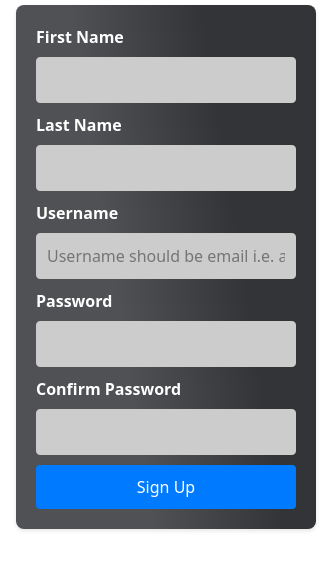
SignUpForm shows error message when username already exists
Note: Simulating user input for each of the form fields
Type "John" into the field labelled "First Name" at (166, 80), box 36,57 -> 296,103
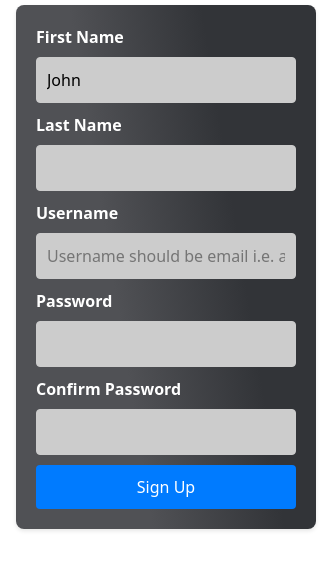
Type "Doe" into the field labelled "Last Name" at (166, 168), box 36,145 -> 296,191
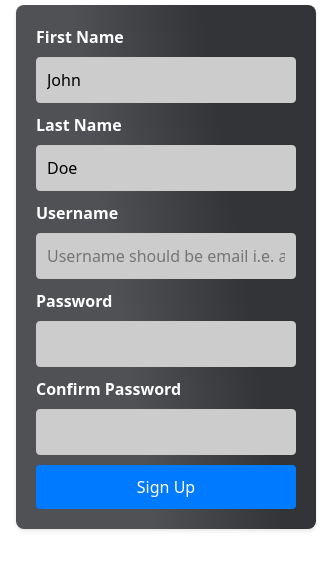
Type "john@example.com" into the field labelled "Username" at (166, 256), box 36,233 -> 296,279
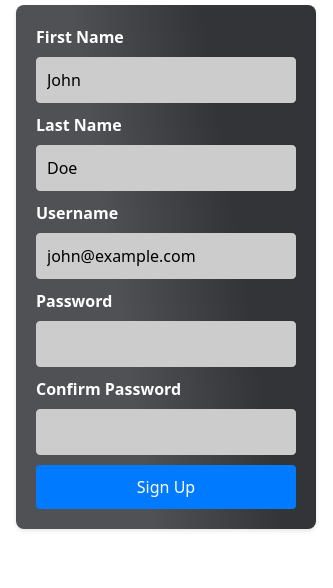
Type "securePassw0rd" into the password field labelled "Password" at (166, 344), box 36,321 -> 296,367
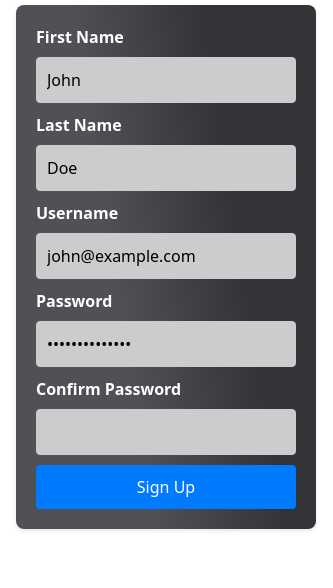
Type "securePassw0rd" into the password field labelled "Confirm Password" at (166, 432), box 36,409 -> 296,455
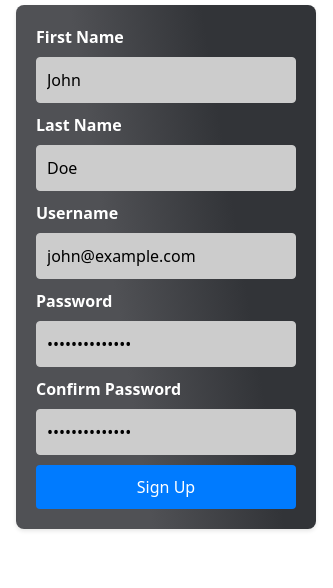
Note: Simulating a click on the sign-up button
Click the button "Sign Up" at (166, 487), box 36,465 -> 296,509
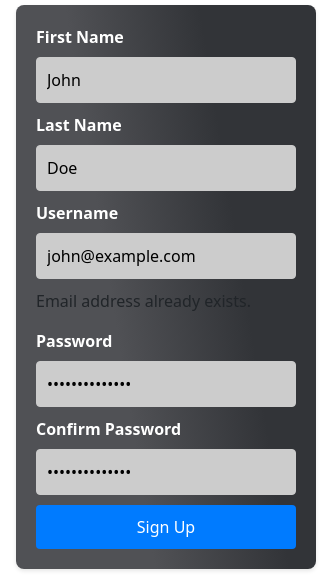
Check: the text "Email address already exists." is shown, box 36,290 -> 251,312
